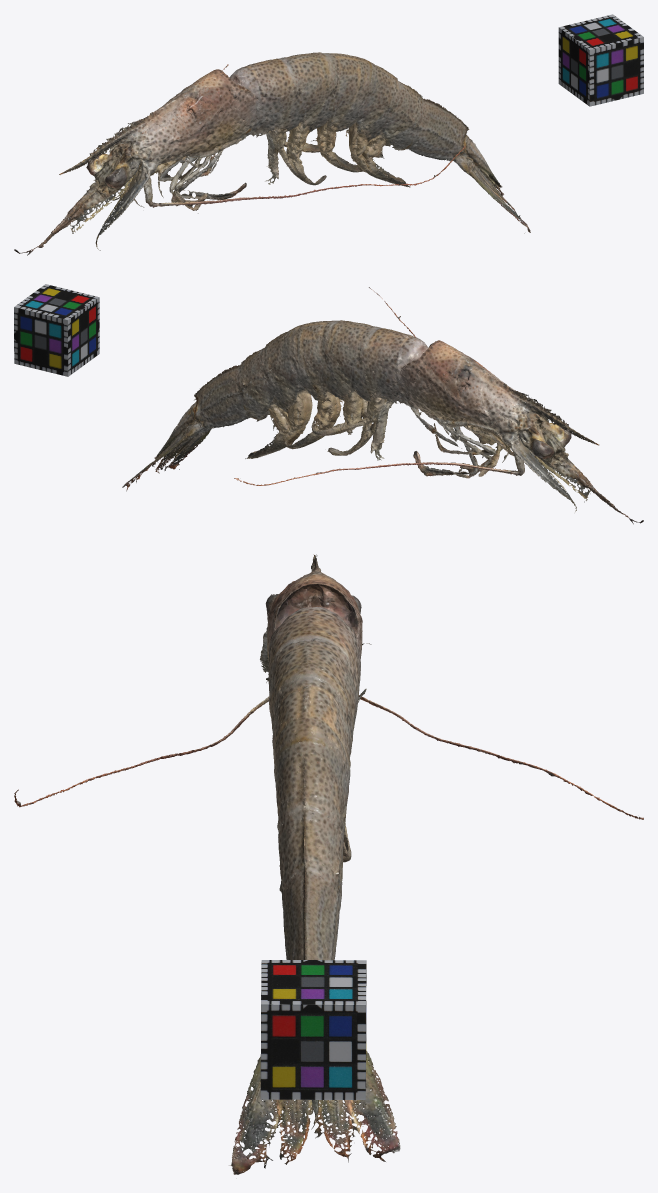
File: Q11807-1all-3.gltf
3 renders of one model, top to bottom at view 1: azimuth 30°, elevation 25°; view 2: azimuth 150°, elevation 25°; view 3: azimuth 270°, elevation 25°, orthographic. The views are drawn at different scales.
Parts seen in each view (by area): view 1: Q11807-1all-3, Cube; view 2: Q11807-1all-3, Cube; view 3: Q11807-1all-3, Cube.
Part boxes in pixels (left/top/right/bottom): Q11807-1all-3: left=14, top=52, right=530, bottom=255; Cube: left=558, top=14, right=643, bottom=106; Q11807-1all-3: left=122, top=287, right=643, bottom=524; Cube: left=14, top=284, right=99, bottom=376; Q11807-1all-3: left=14, top=554, right=643, bottom=1174; Cube: left=260, top=960, right=366, bottom=1099.
Bounding box in the file's own units: 7.49 × 2.52 × 3.96.
2 materials, 2 textured.
